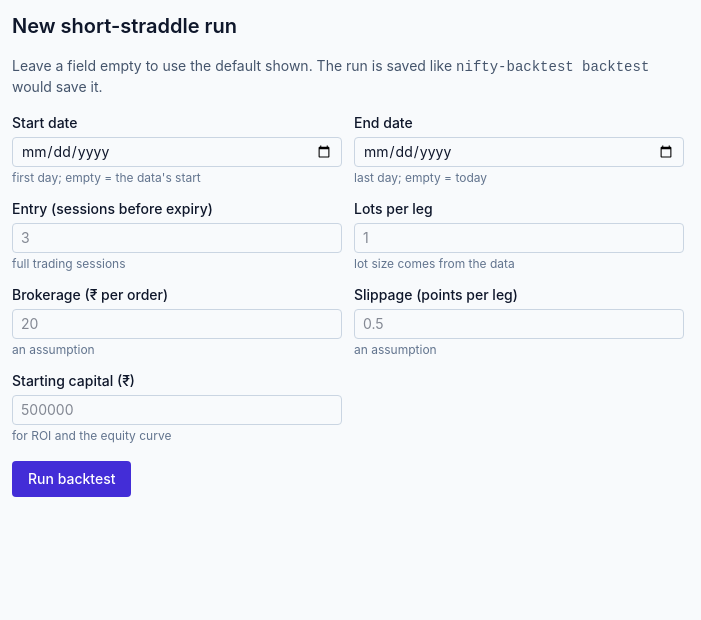
it: launch form › shows the API's explanation for a launch already running
This screenshot has width=701, height=620.
Click the button "Run backtest" at coordinates (72, 479), box [12,461,132,497]
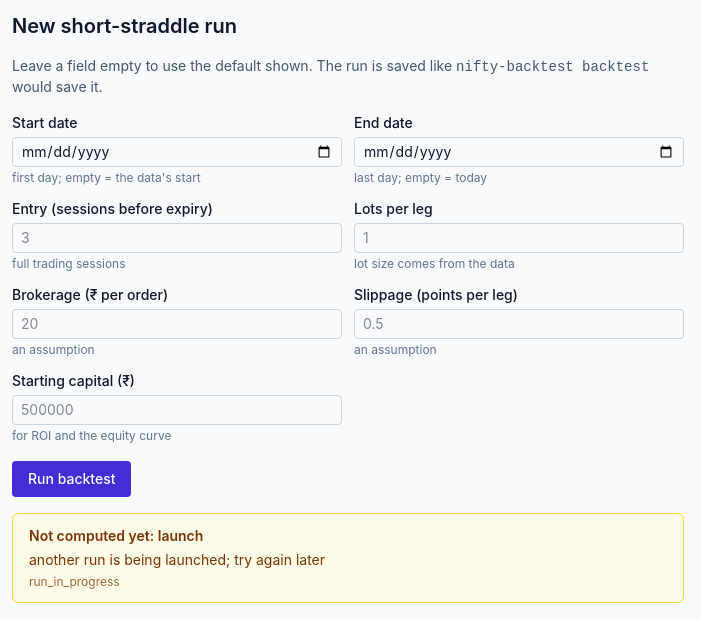
Expected: the text "another run is being launched; try again later" is shown, [29,551,325,568]
